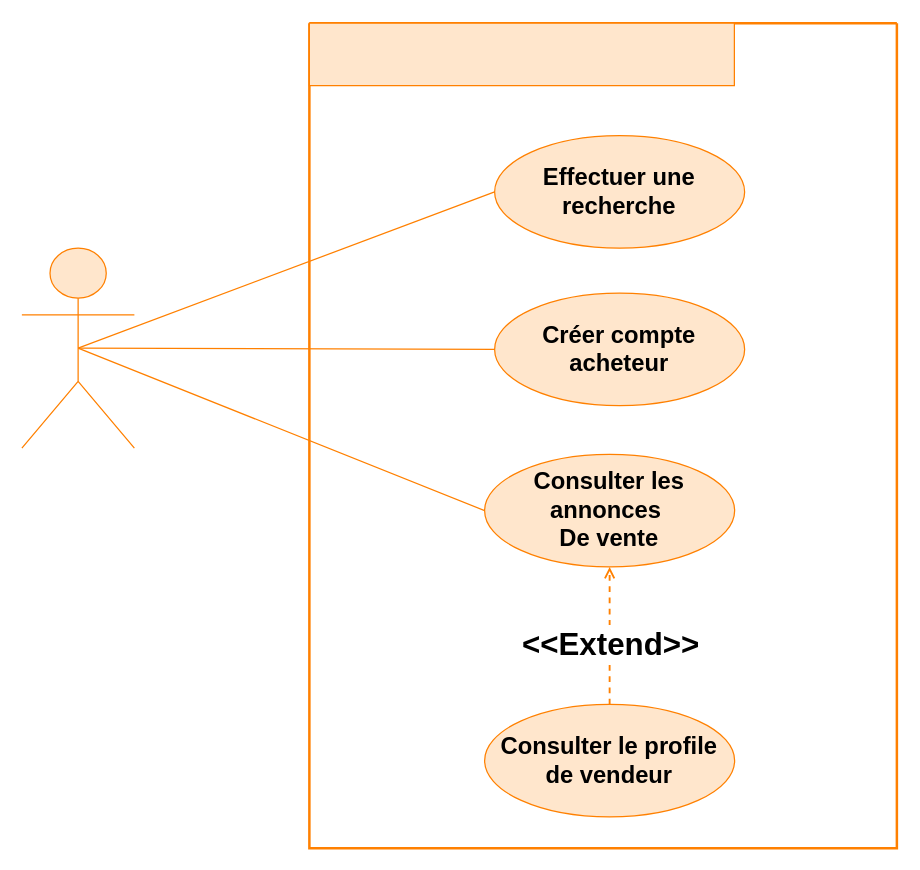
Image size: 920x870. Some labels were removed from this diagram. Here are the shapes that lost their labels. From the top down, the box of each, then its label:
(308, 22, 734, 86): Plateforme web pour améliorer et optimiser l'écosystème commercial
(21, 247, 134, 448): Visiteur
